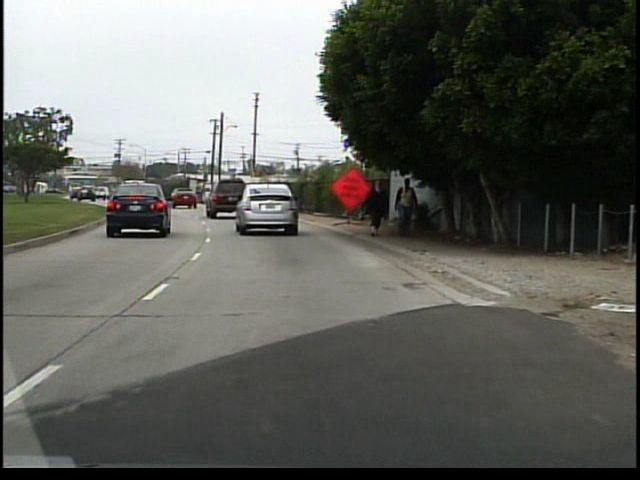person: (355, 173, 392, 243), (392, 177, 419, 241)
